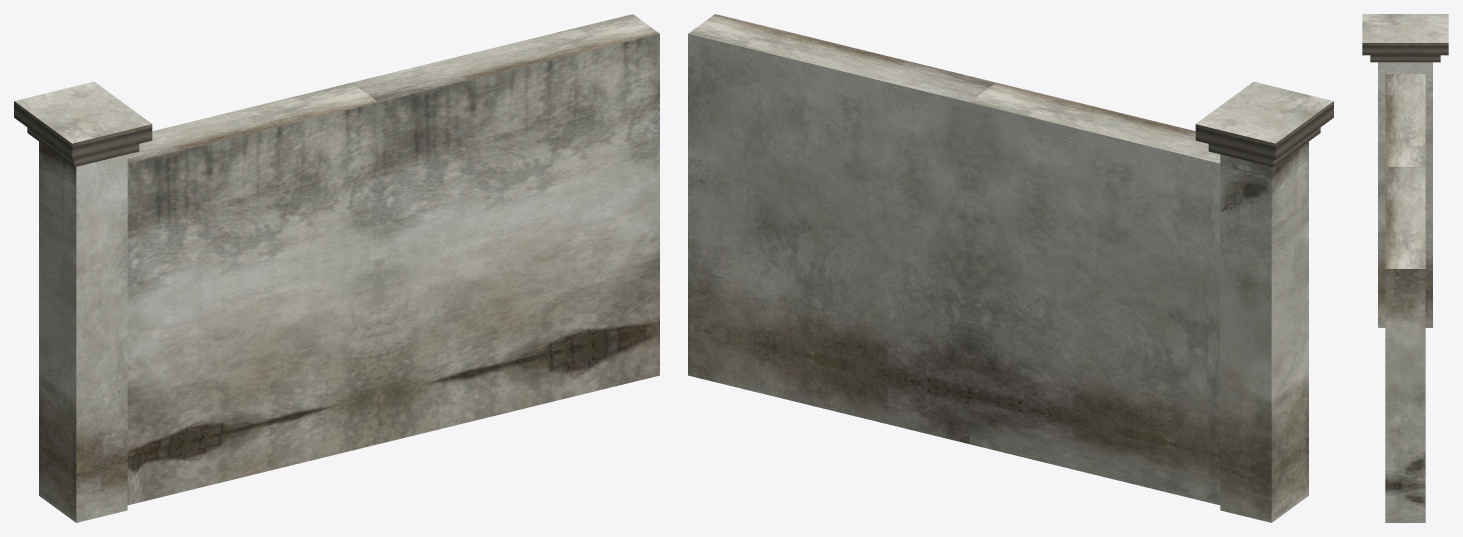
File: english_wall_60.fbx
The picture shows the model from 3 angles, left to right: view 1: azimuth 30°, elevation 25°; view 2: azimuth 150°, elevation 25°; view 3: azimuth 270°, elevation 25°; orthographic projection. The views are drawn at different scales.
Parts seen in each view (by area): view 1: lod_high; view 2: lod_high; view 3: lod_high.
Boxes of the visible parts, left/top/right/bottom form: lod_high: left=14, top=14, right=659, bottom=522; lod_high: left=688, top=14, right=1333, bottom=522; lod_high: left=1362, top=14, right=1448, bottom=522.
Size of the model in its own units: 6465 by 3999 by 1079.
Materials: 1 (1 with a texture image).
